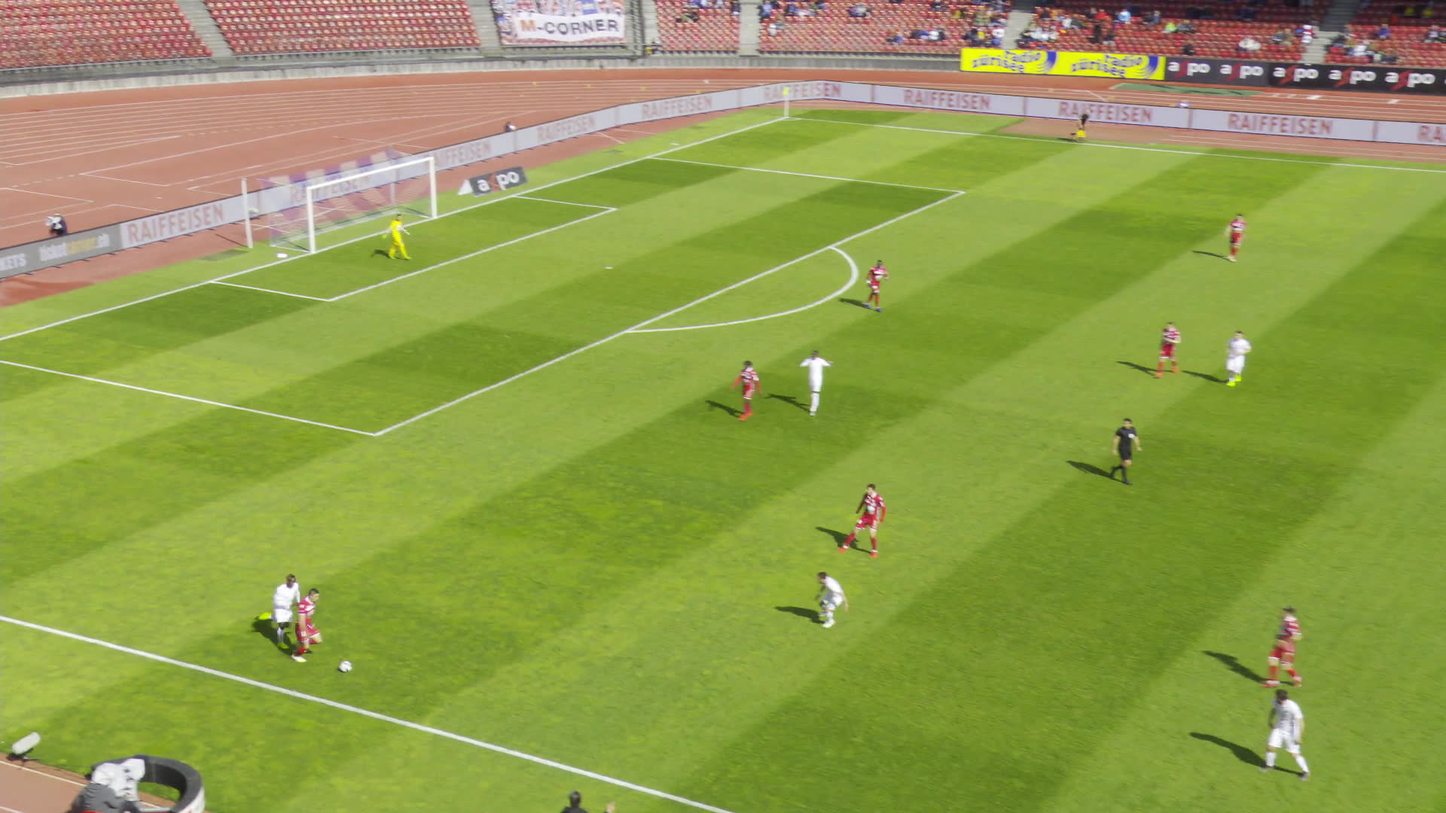ball: (332, 659, 344, 669)
player: (1261, 686, 1310, 778), (245, 573, 302, 641), (844, 486, 889, 559), (278, 587, 319, 665), (1277, 610, 1316, 692), (807, 351, 842, 419), (819, 574, 856, 629), (741, 361, 770, 420), (1164, 322, 1192, 379), (1234, 331, 1262, 388), (872, 260, 896, 313), (390, 215, 416, 261), (1224, 212, 1247, 262)
referee: (1114, 419, 1149, 487), (1072, 111, 1096, 142)
